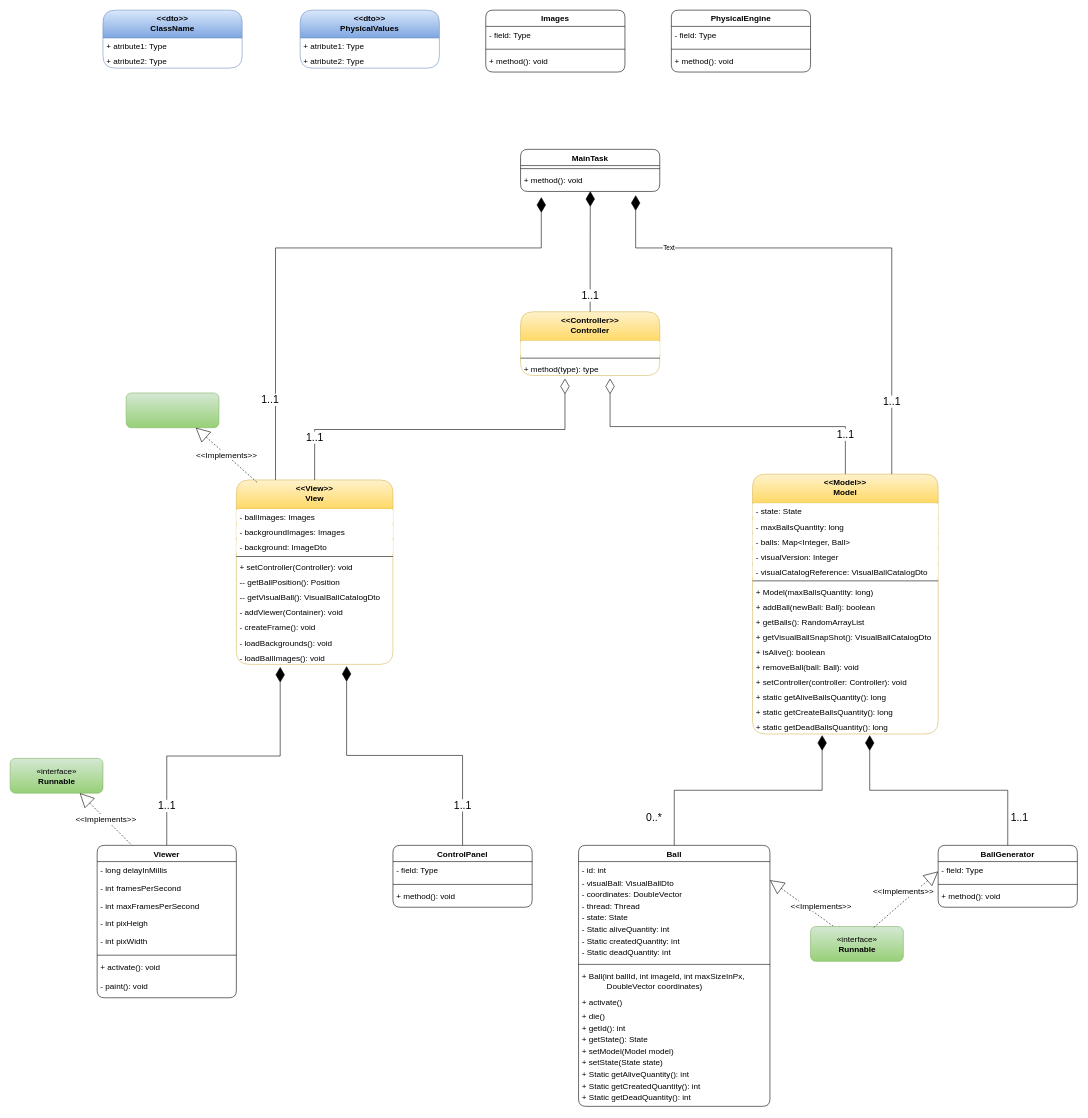
This 1088x1118 diagram has some shape labels left out. Here are the shapes that lost their labels. From the top down, the centre of each, then its label:
At [589,348]: "+ field: type".
At [172,410]: "JFrame".
